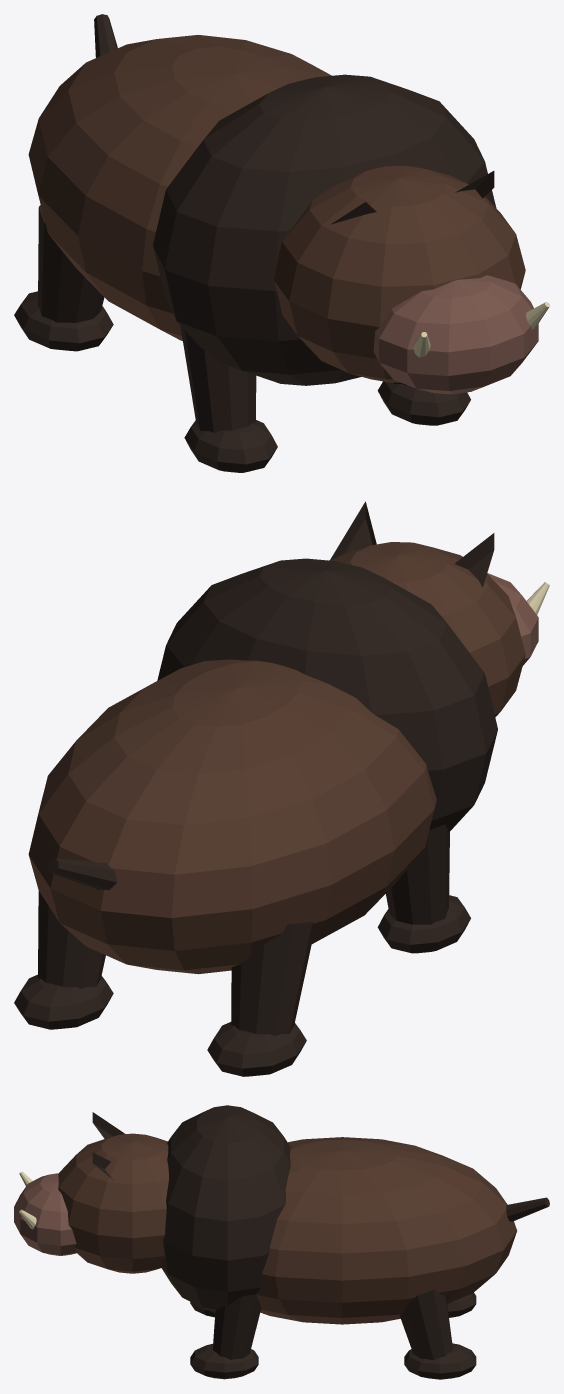
File: MagicForestBoar.obj
3 views of the same model, one above another, from view 1: azimuth 30°, elevation 25°; view 2: azimuth 150°, elevation 25°; view 3: azimuth 270°, elevation 25° (orthographic). The views are drawn at different scales.
Parts seen in each view (by area): view 1: Shoulder, Body, Head, Snout, FrontLeg-0.72, BackLeg-0.72, FootF-0.72, FootB-0.72, FootF0.72, Tail; view 2: Body, Shoulder, Head, BackLeg-0.72, FrontLeg-0.72, FootB-0.72, FootB0.72, BackLeg0.72, FootF-0.72, Tail, Snout, EarR (+1 smaller); view 3: Body, Shoulder, Head, Snout, BackLeg0.72, FrontLeg0.72, FootB0.72, FootF0.72, Tail, FootB-0.72, EarL.
Part boxes in pixels (box(x1,y1,x2,y2)): Shoulder: box(153, 74, 496, 385); Body: box(28, 35, 331, 340); Head: box(274, 165, 525, 382); Snout: box(373, 275, 538, 394); FrontLeg-0.72: box(180, 325, 256, 432); BackLeg-0.72: box(38, 205, 104, 322); FootF-0.72: box(184, 420, 277, 472); FootB-0.72: box(14, 291, 113, 351); FootF0.72: box(377, 381, 470, 425); Tail: box(94, 14, 117, 57); Body: box(28, 659, 436, 974); Shoulder: box(157, 558, 497, 831); Head: box(329, 542, 525, 716); BackLeg-0.72: box(231, 921, 313, 1035); FrontLeg-0.72: box(386, 824, 449, 924); FootB-0.72: box(207, 1022, 306, 1076); FootB0.72: box(14, 974, 113, 1029); BackLeg0.72: box(38, 891, 105, 988); FootF-0.72: box(377, 895, 470, 953); Tail: box(48, 858, 117, 890); Snout: box(487, 573, 538, 665); EarR: box(330, 501, 376, 560); Body: box(255, 1137, 517, 1324); Shoulder: box(161, 1105, 290, 1312); Head: box(58, 1133, 169, 1273); Snout: box(14, 1173, 77, 1255); BackLeg0.72: box(399, 1289, 452, 1360); FrontLeg0.72: box(213, 1294, 261, 1359); FootB0.72: box(404, 1343, 476, 1379); FootF0.72: box(190, 1344, 258, 1379); Tail: box(506, 1197, 549, 1221); FootB-0.72: box(447, 1292, 476, 1317); EarL: box(92, 1112, 125, 1138).
Bounding box in the file's own units: 2.4 × 2.51 × 5.37.
